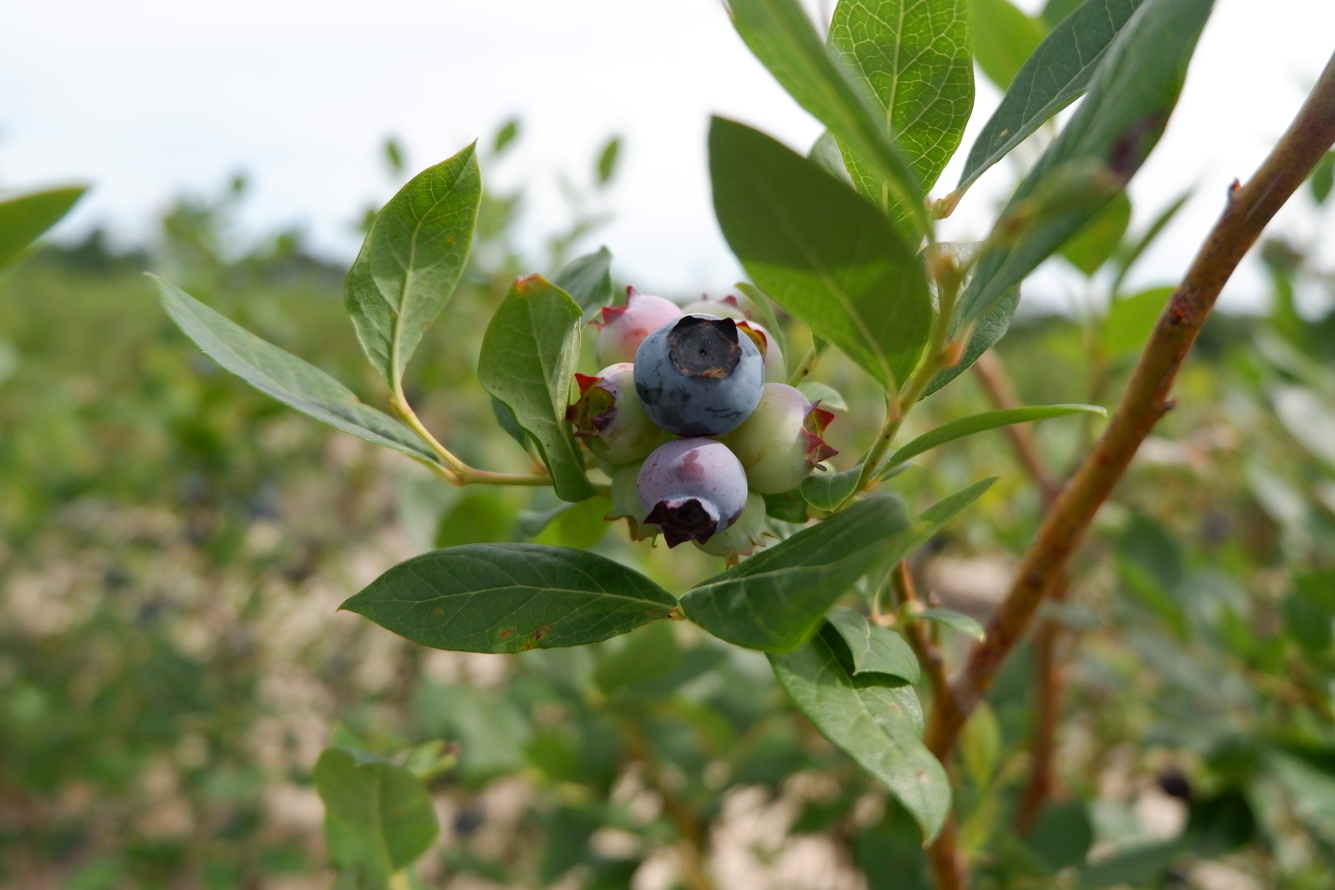Immature: (727, 382, 839, 491), (572, 363, 668, 467), (597, 288, 678, 366), (694, 493, 765, 564), (608, 463, 651, 543), (733, 316, 785, 382), (681, 292, 750, 321)
Mature: (638, 314, 762, 434), (639, 441, 745, 543)
